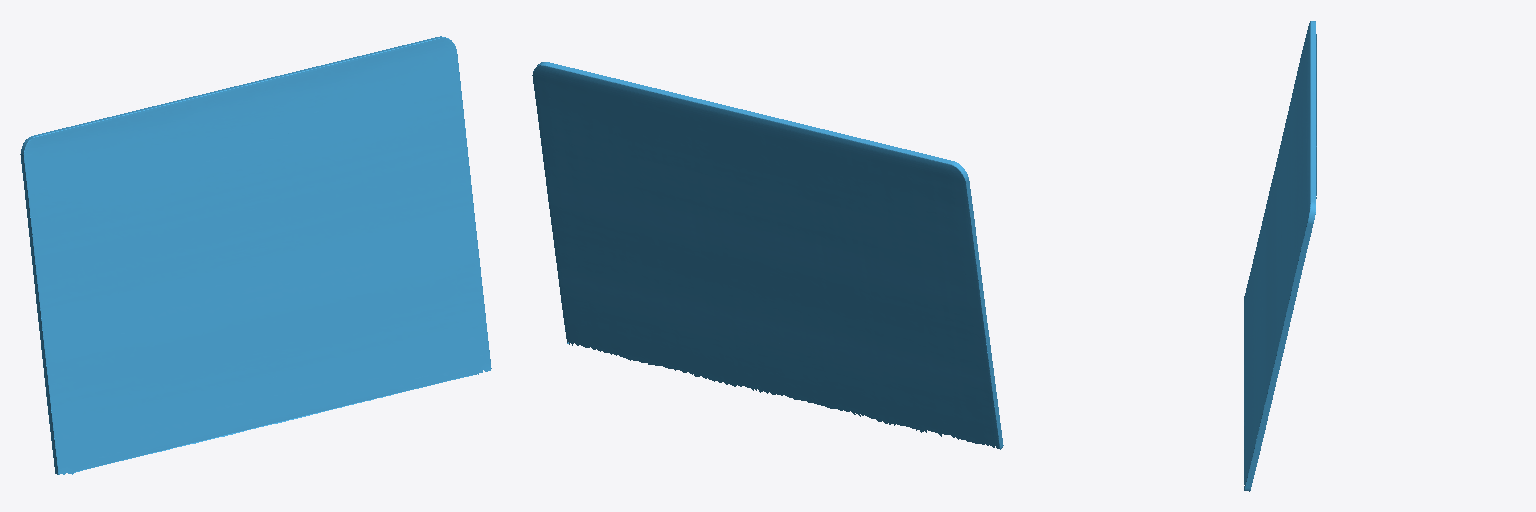
URDF robot description (laptop_00):
<?xml version='1.0' encoding='utf-8'?>
<robot name="laptop_00">
  <link name="l_0">
    <visual>
      <origin xyz="0 0 0" rpy="0 0 0" />
      <geometry>
        <mesh filename="./laptop_00_objs/0/0.obj" />
      </geometry>
    </visual>
    <collision>
      <origin xyz="0 0 0" rpy="0 0 0" />
      <geometry>
        <mesh filename="./laptop_00_objs/0/0.obj" />
      </geometry>
    </collision>
  </link>
  <link name="l_1">
    <visual>
      <origin xyz="0.0025000000000000044 -0.29250000000000004 0.32749999999999996" rpy="0 0 0" />
      <geometry>
        <mesh filename="./laptop_00_objs/1/1.obj" />
      </geometry>
    </visual>
    <collision>
      <origin xyz="0.0025000000000000044 -0.29250000000000004 0.32749999999999996" rpy="0 0 0" />
      <geometry>
        <mesh filename="./laptop_00_objs/1/1.obj" />
      </geometry>
    </collision>
  </link>
  <joint name="j_1" type="revolute">
    <parent link="l_0" />
    <child link="l_1" />
    <origin xyz="-0.0025000000000000044 0.29250000000000004 -0.32749999999999996" rpy="0 0 0" />
    <axis xyz="1.0 0.0 0.0" />
    <limit lower="-0.0628" upper="1.6965" effort="10" velocity="10" />
  </joint>
</robot>

--- Render facts (derived) ---
The picture shows the robot from 3 angles, left to right: view 1: azimuth 30°, elevation 25°; view 2: azimuth 150°, elevation 25°; view 3: azimuth 270°, elevation 25°; orthographic projection.
Model laptop_00 with 2 links and 1 joints (1 revolute), rooted at l_0, posed every joint at zero.
Visible links, largest first — view 1: l_1; view 2: l_1; view 3: l_1.
Link boxes in pixels (x1,y1,x2,y2): l_1: [20, 36, 491, 474]; l_1: [532, 62, 1003, 449]; l_1: [1244, 21, 1316, 491].
Size in the robot's own frame: 1 by 0.1599 by 0.6881 metres.
Meshes: 2 distinct files referenced, 1 mesh visuals loaded (1 OBJ); not drawn: 1 (reference not matched to a file when rendering).
